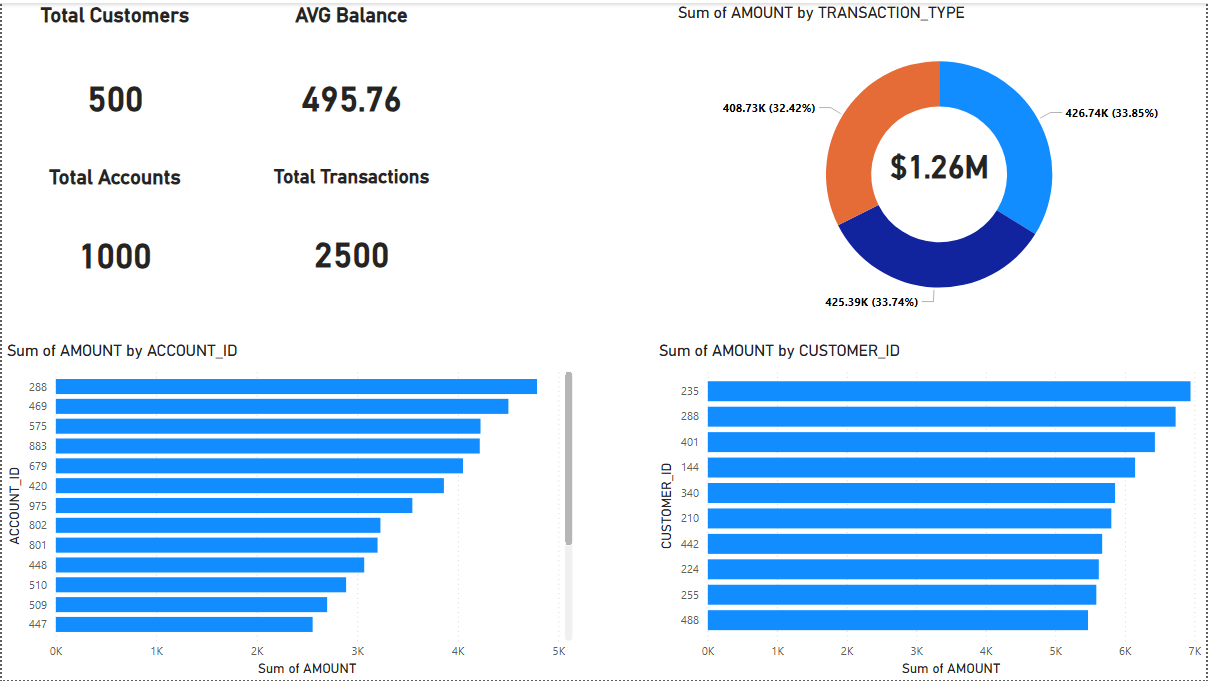

This screenshot's page, from the dashboard's own definition file:
{"tool":"powerbi","page":{"name":"Page 1","canvas":[1280,720],"ordinal":0},"visuals":[{"type":"card","title":"Total Customers","fields":{"Values":["Count(DIM_CUSTOMERS.CUSTOMER_ID)"]},"box":[0,0,240.1,172.8],"z":0},{"type":"card","title":"Total Accounts","fields":{"Values":["Count(DIM_ACCOUNTS.ACCOUNT_ID)"]},"box":[0,172.8,240.1,163],"z":1000},{"type":"card","title":"Total Transactions","fields":{"Values":["Count(FACT_TRANSACTIONS.TRANSACTION_ID)"]},"box":[240.1,172.8,263,163],"z":2000},{"type":"card","title":"AVG Balance","fields":{"Values":["Avg(DIM_ACCOUNTS.BALANCE)"]},"box":[240.1,0,263,172.8],"z":3000},{"type":"clusteredBarChart","fields":{"Category":["FACT_TRANSACTIONS.CUSTOMER_ID"],"Y":["Sum(FACT_TRANSACTIONS.AMOUNT)"]},"box":[693.2,359.7,586.8,360.7],"z":4000},{"type":"donutChart","fields":{"Category":["FACT_TRANSACTIONS.TRANSACTION_TYPE"],"Y":["Sum(FACT_TRANSACTIONS.AMOUNT)"]},"box":[713.9,0,566.1,345.5],"z":5000},{"type":"clusteredBarChart","fields":{"Y":["Sum(FACT_TRANSACTIONS.AMOUNT)"],"Category":["DIM_ACCOUNTS.ACCOUNT_ID"]},"box":[0,359.7,611.7,360.7],"z":6000},{"type":"card","fields":{"Values":["Sum(FACT_TRANSACTIONS.AMOUNT)"]},"box":[897.5,116.3,198.8,111.9],"z":6001}]}

Visuals, with their boxes in screenshot pixels (x1, y1, x2, y2), scaled from the page's 1280x720 canvas onto the 1208x681 screenshot:
"Total Customers" card: 0:0:227:163
"Total Accounts" card: 0:163:227:318
"Total Transactions" card: 227:163:475:318
"AVG Balance" card: 227:0:475:163
clusteredBarChart - FACT_TRANSACTIONS.CUSTOMER_ID x Sum(FACT_TRANSACTIONS.AMOUNT): 654:340:1207:680
donutChart - FACT_TRANSACTIONS.TRANSACTION_TYPE x Sum(FACT_TRANSACTIONS.AMOUNT): 674:0:1207:327
clusteredBarChart - Sum(FACT_TRANSACTIONS.AMOUNT) x DIM_ACCOUNTS.ACCOUNT_ID: 0:340:577:680
card - Sum(FACT_TRANSACTIONS.AMOUNT): 847:110:1035:216
